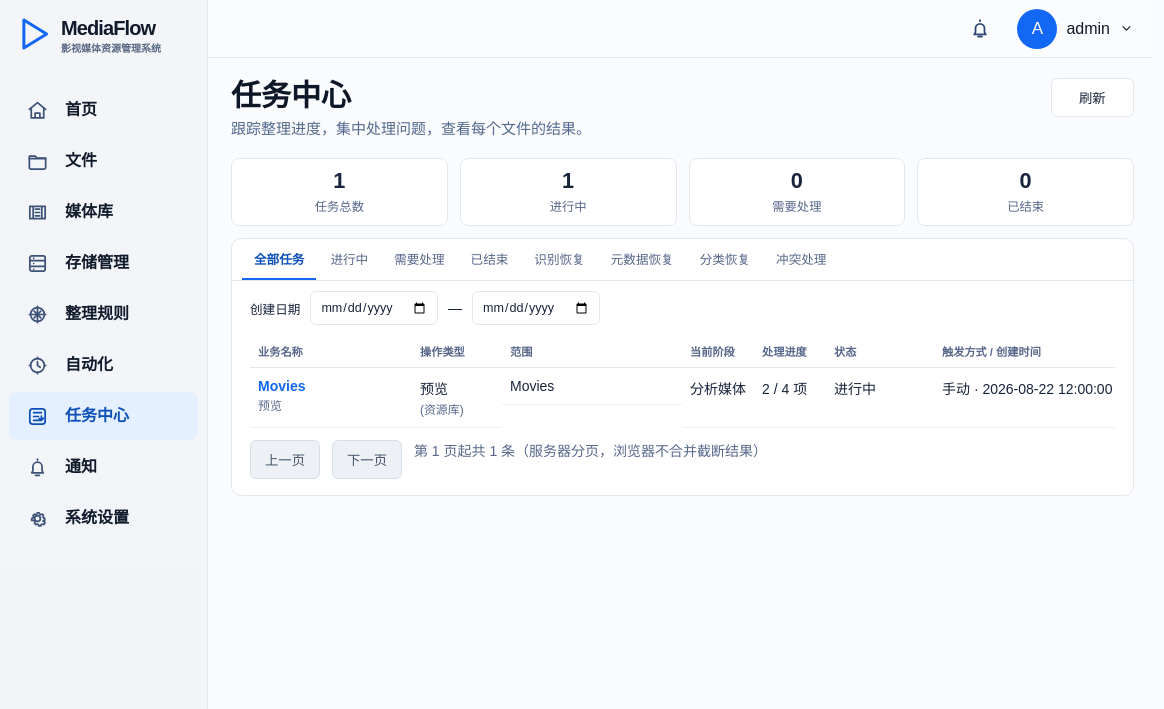
Test: Operations run inventory landing › selects a run into the overview panel and closes back to the list
Click the button with aria-label "预览". click: (282, 386)
box: x1=258 y1=378 x2=306 y2=394
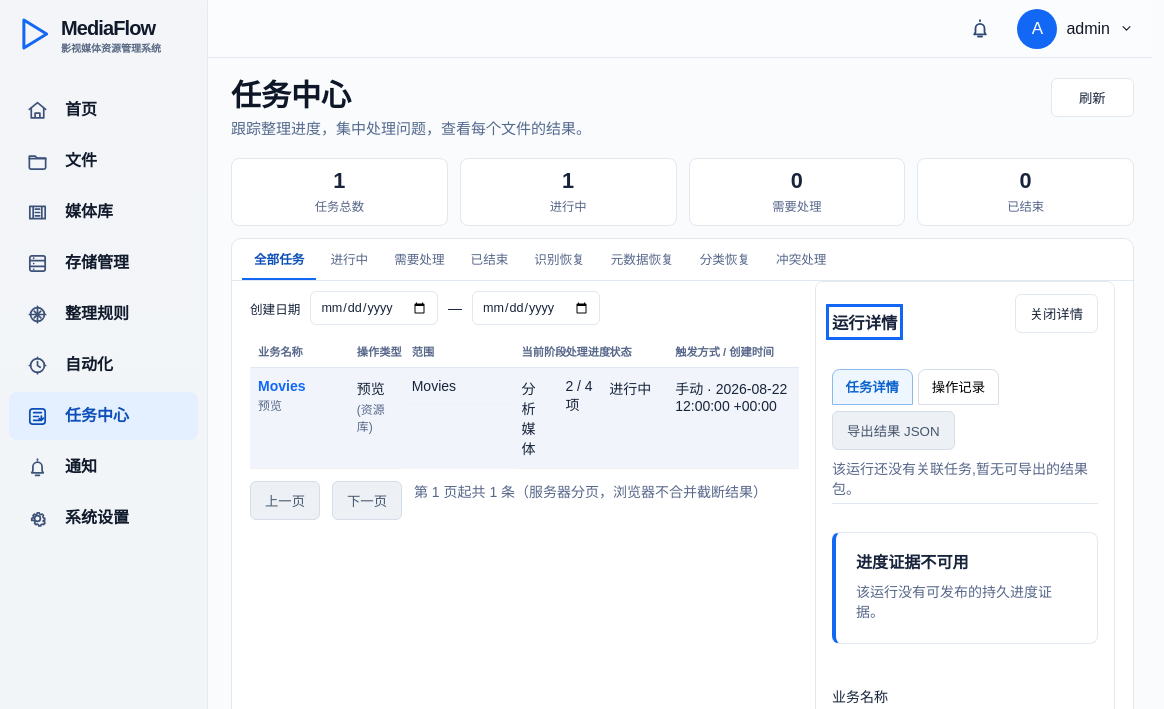
Click the button "关闭详情". click: (1056, 314)
box: x1=1015 y1=294 x2=1098 y2=333
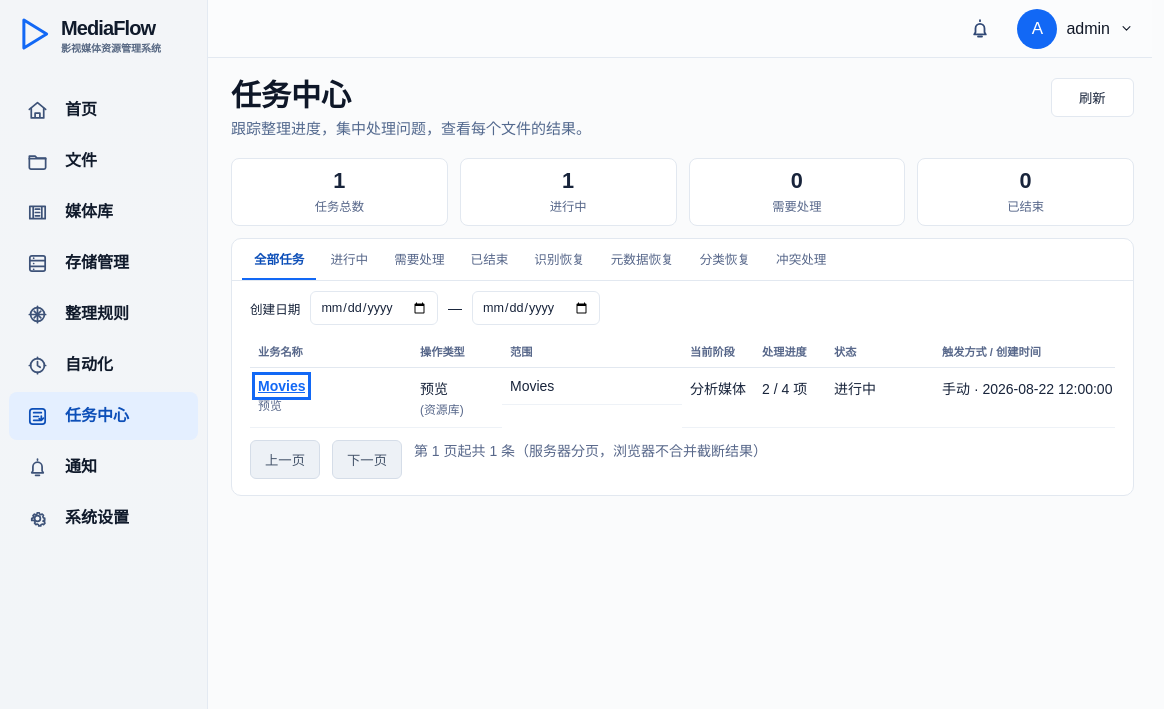
Expected: the heading "运行详情" is gone
